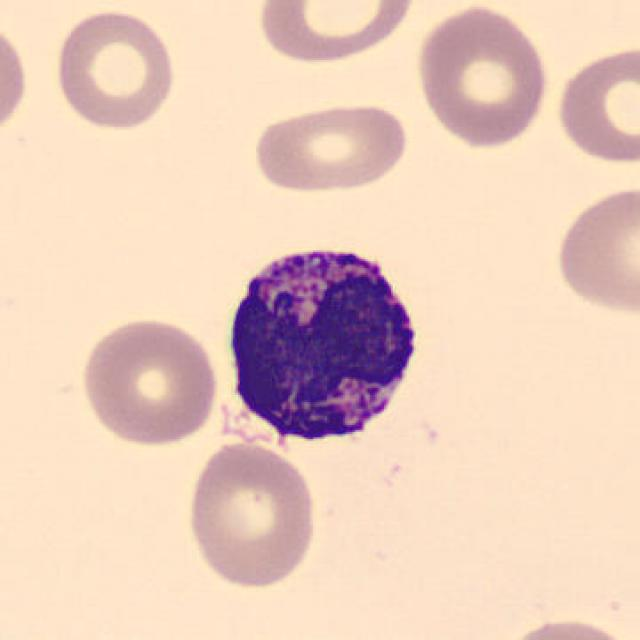Basophil: (212, 228, 436, 460)
RBC: (181, 436, 322, 592), (411, 2, 553, 150), (76, 312, 222, 450), (49, 6, 180, 132), (249, 99, 412, 197), (551, 180, 640, 321), (253, 0, 422, 67), (551, 41, 638, 168), (0, 16, 32, 146), (494, 612, 636, 640)
